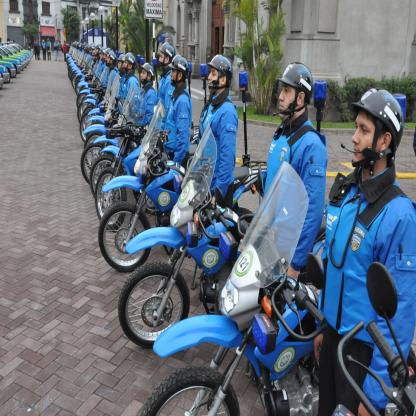Helmet: (352, 87, 409, 181), (279, 60, 313, 116), (72, 40, 121, 65), (207, 53, 234, 98), (168, 54, 191, 90), (159, 43, 175, 72), (123, 53, 136, 74), (141, 63, 154, 84)
